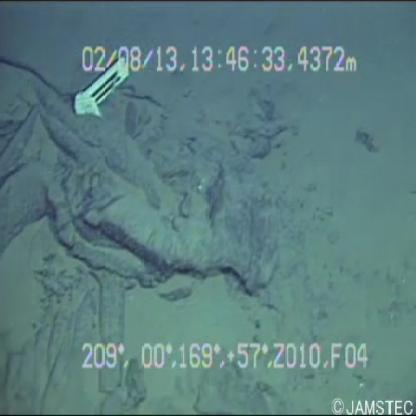Rác: (56, 45, 140, 124)
